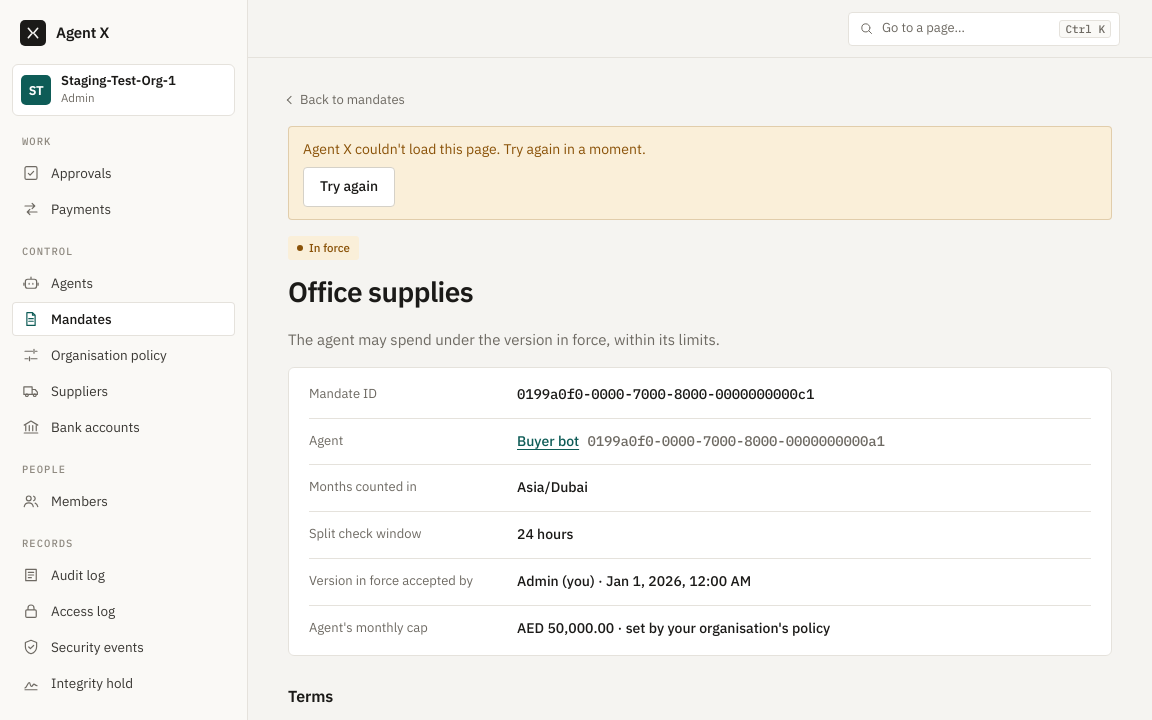
Test: a mandate’s page › keeps a shown mandate on screen when reading it again fails, and offers to try again
expect the heading "Office supplies" is shown: met, box [288, 273, 473, 310]
What coordinates should you click on to do the following:
click the button "Try again"
I would click on:
 (349, 187)
Its box is [303, 167, 395, 207].
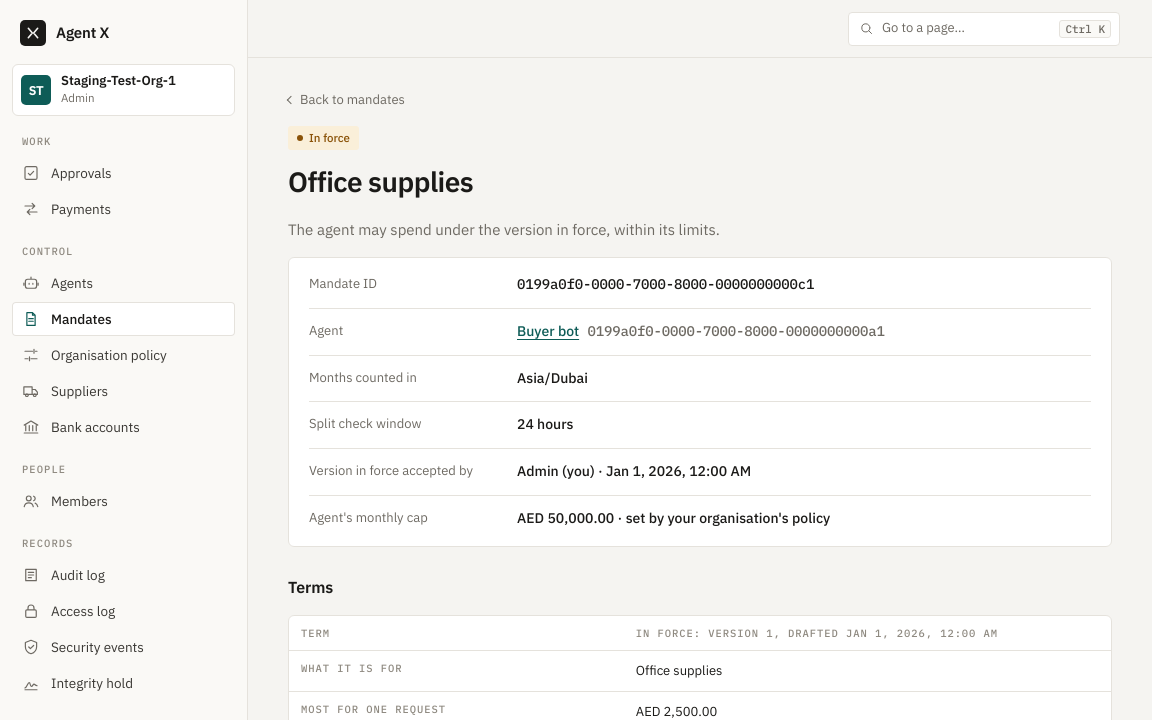
expect the heading "Office supplies" is shown: met, box [288, 163, 473, 200]
expect the text "Try again" is gone: met
